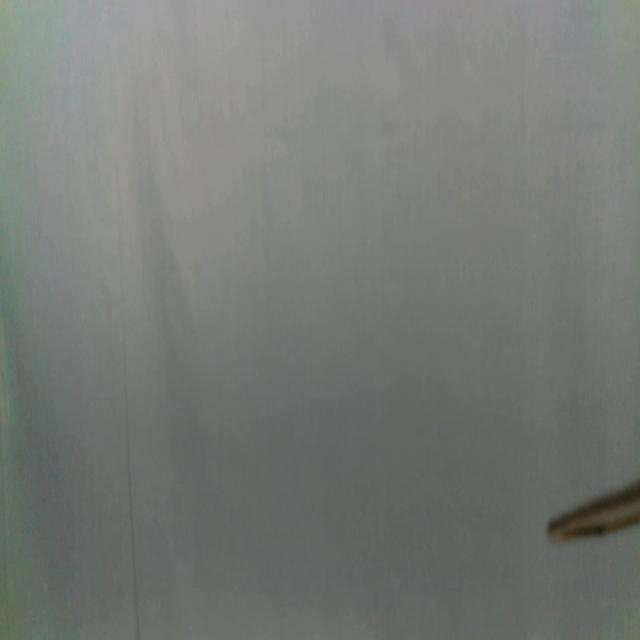crease: (112, 59, 142, 640)
